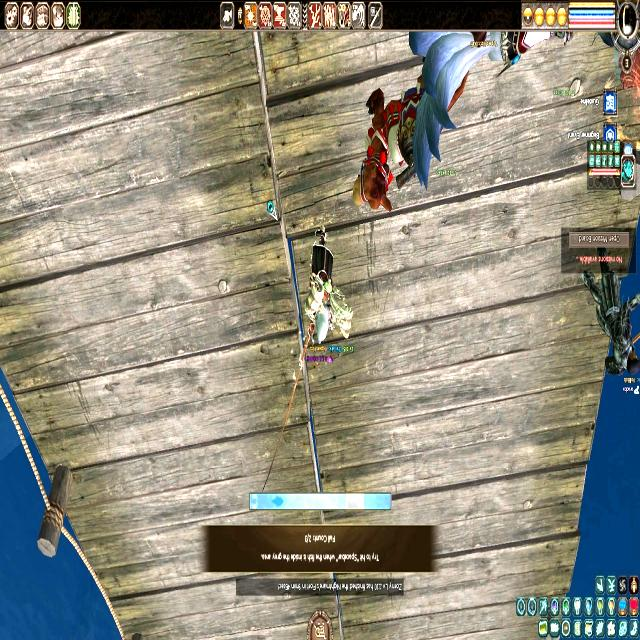fishes: (272, 496, 284, 508)
